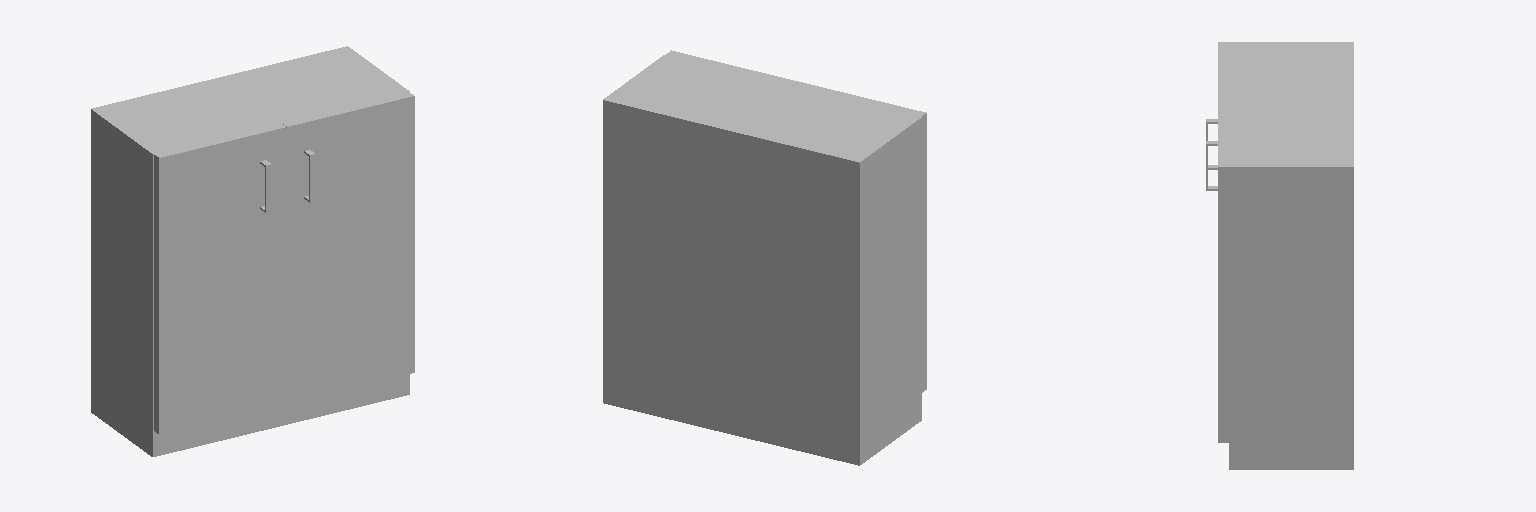
File: Cleaning kit.obj
3 renders of one model, left to right at view 1: azimuth 30°, elevation 25°; view 2: azimuth 150°, elevation 25°; view 3: azimuth 270°, elevation 25°, orthographic.
Parts seen in each view (by area): view 1: Box004; view 2: Box004; view 3: Box004.
Part boxes in pixels (x1,y1,x2,y2): Box004: (91, 46, 414, 456); Box004: (603, 50, 926, 465); Box004: (1206, 42, 1353, 469).
Bounding box in the file's own units: 155 × 174 × 76.53.